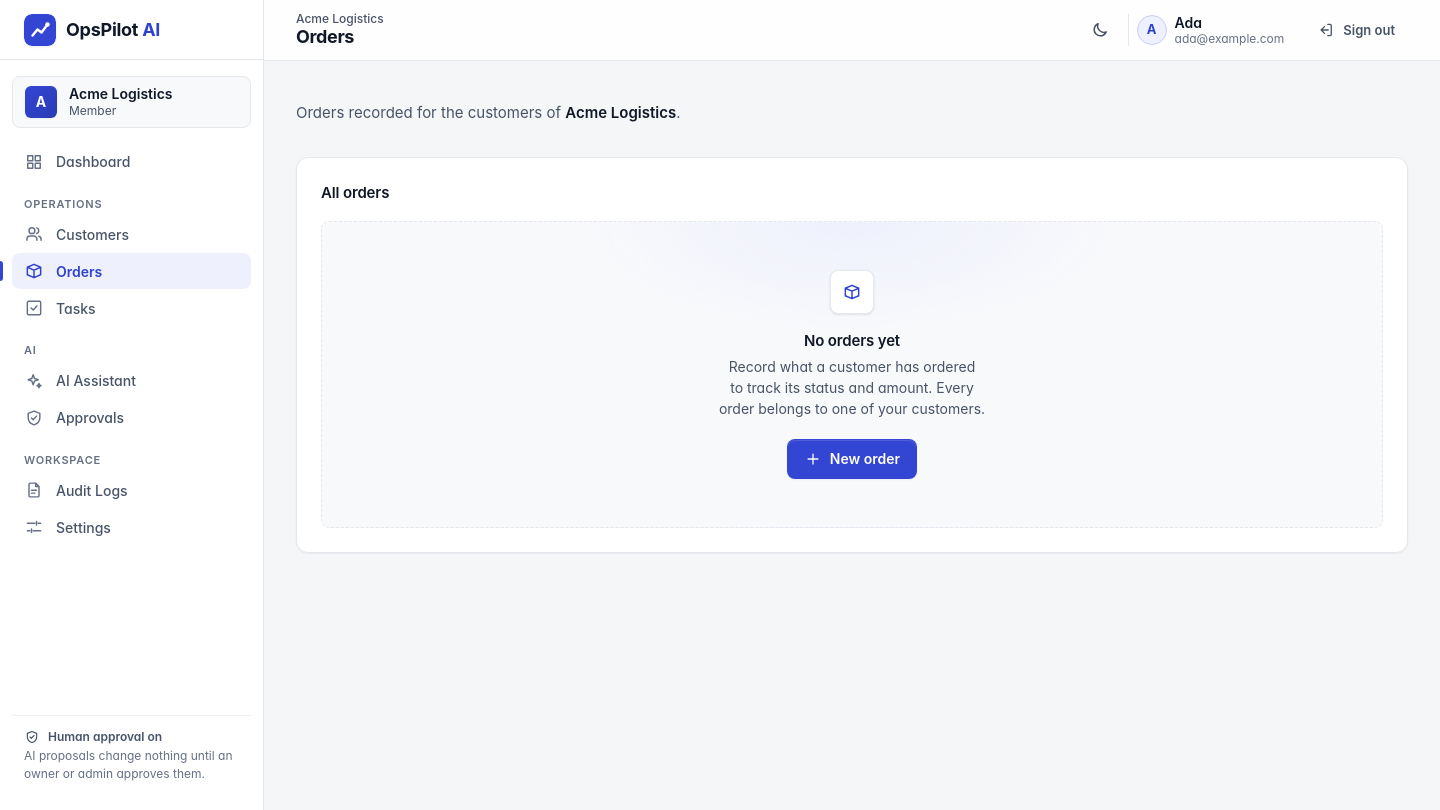
Test: New order dialog › offers only the current organization’s customers, as returned by its customers API
Expected: the heading "Orders" is shown, [296,26,354,47]
Click the button "New order" at [852, 459], box [787,439,917,479]
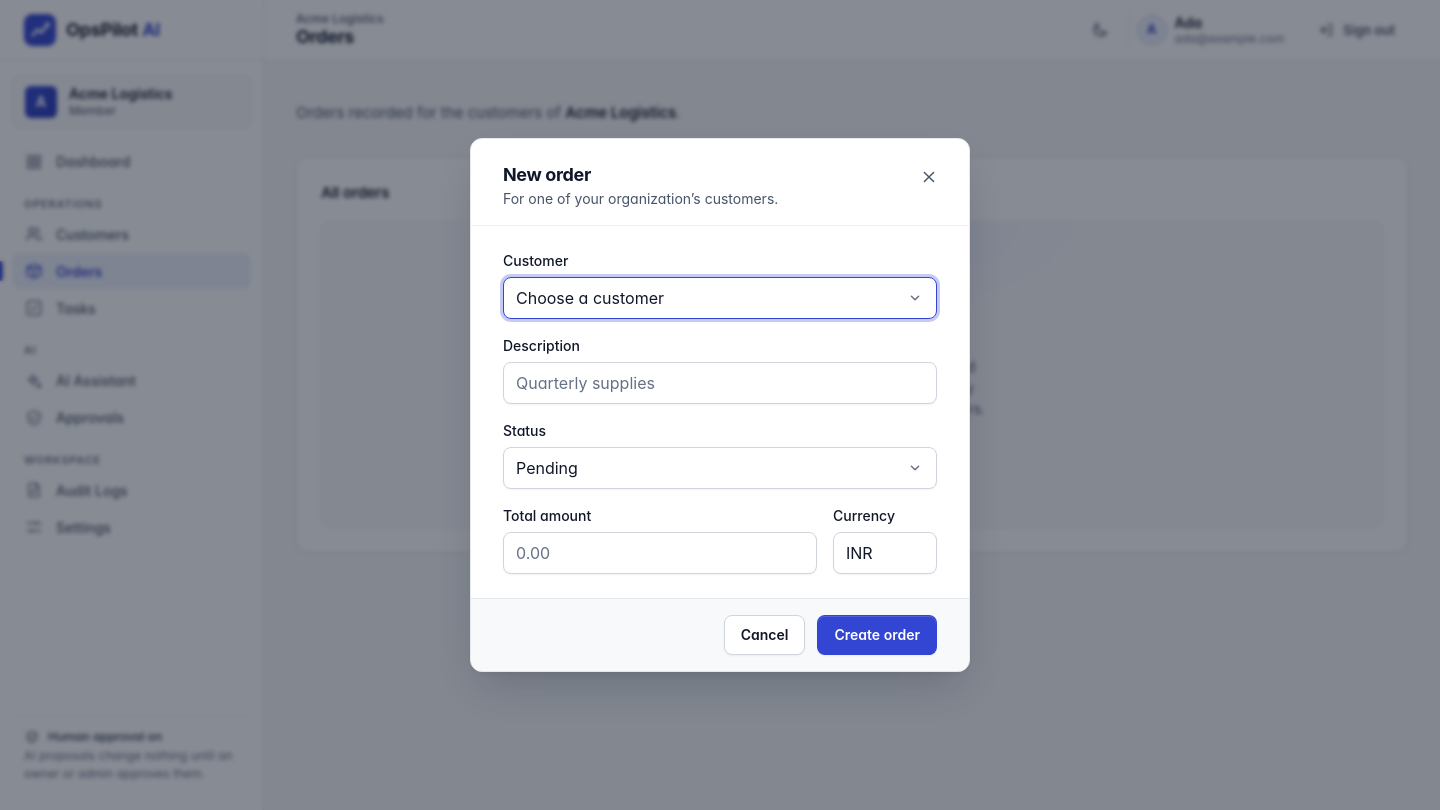
Expected: the dropdown labelled "Customer" is shown, [504,278,936,318]
